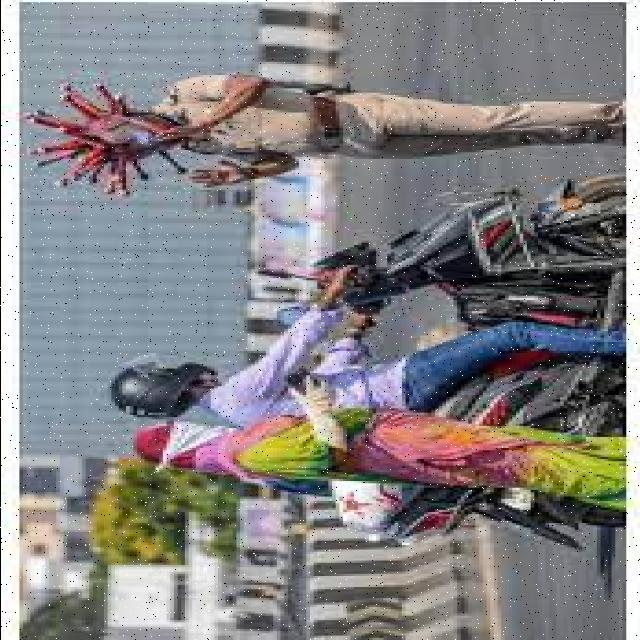Helmet: (110, 362, 211, 418)
